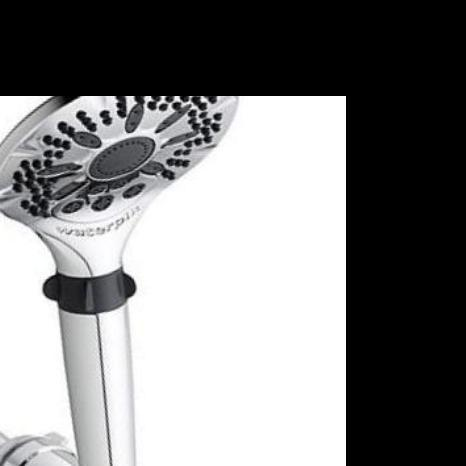Ducha: (0, 62, 245, 466)
